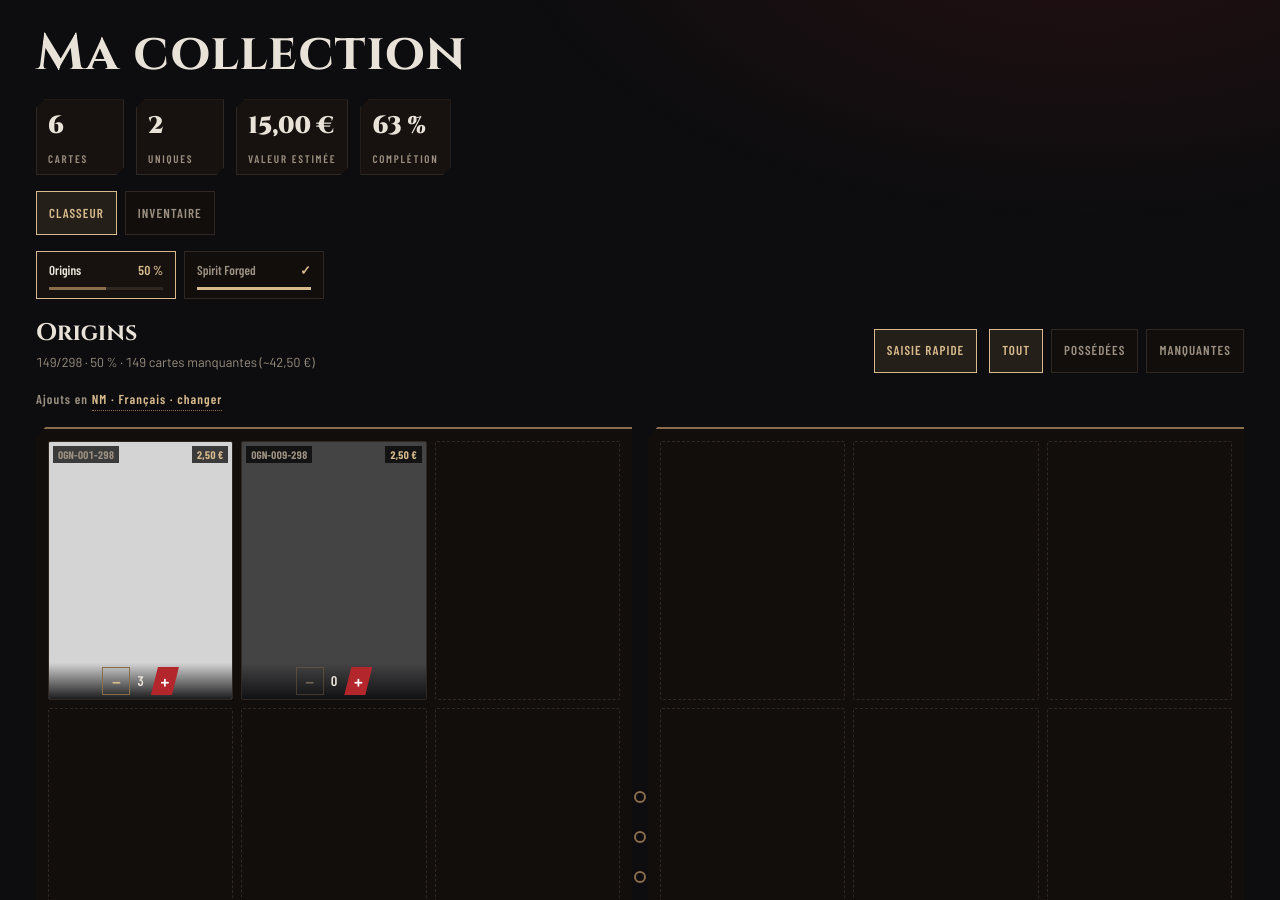
Test: CollectionView › saisie rapide dans le classeur : progression et statistiques relues (débouncées), double page intacte
This screenshot has width=1280, height=900.
Expected: the element with class "rift-stat" shows "6", [48,110,64,142]
Expected: the element with class "rift-stat" shows "2", [148,110,164,142]
Step 1. Click the button with class "rift-stepper-plus" below "OGN-009-298" → x=358, y=681, box [344,667,372,695]
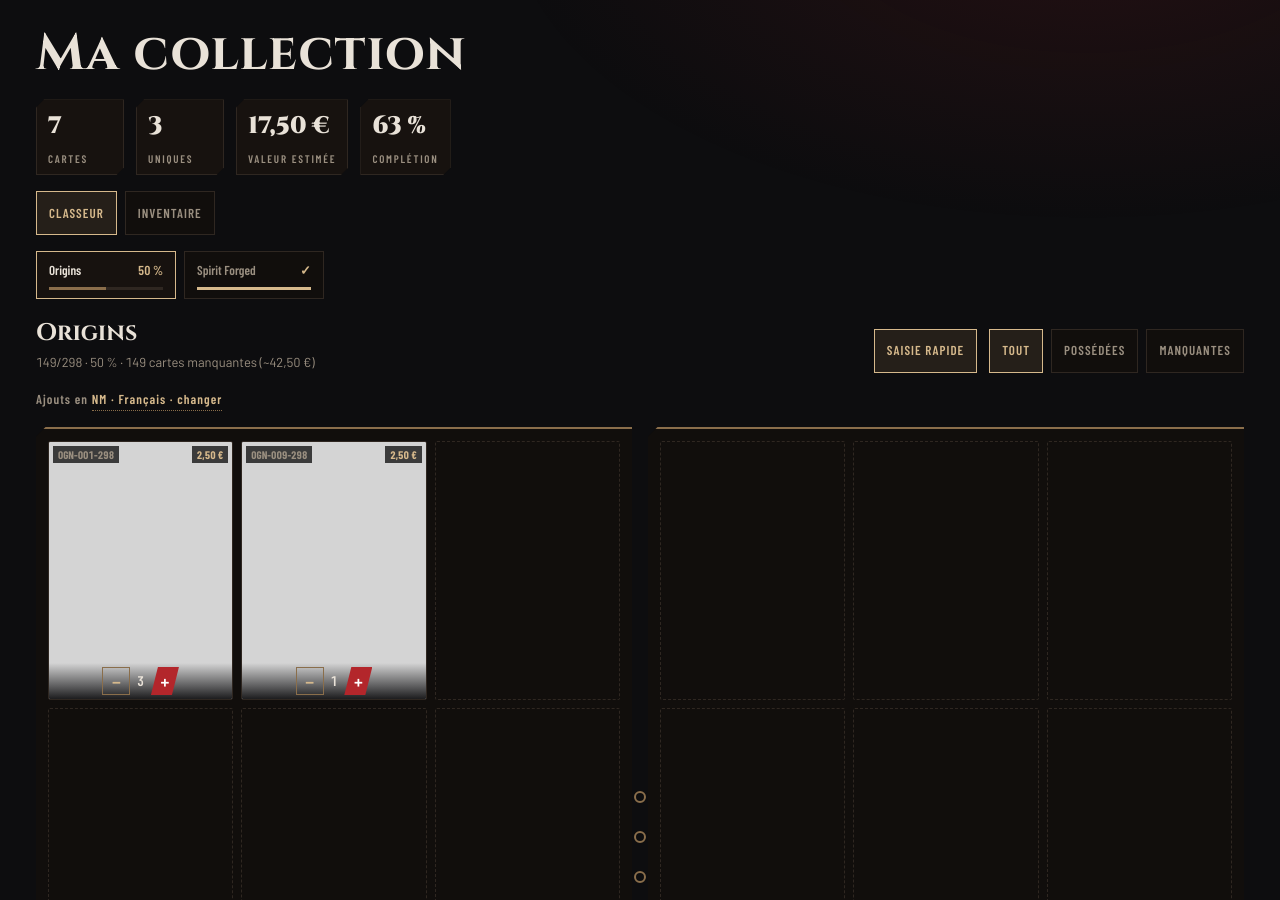
Expected: the element with class "rift-stat" shows "7", [48,110,62,142]
Expected: the element with class "rift-stat" shows "3", [148,110,162,142]
Expected: the element with class "rift-stat" shows "17,50", [248,110,329,142]
